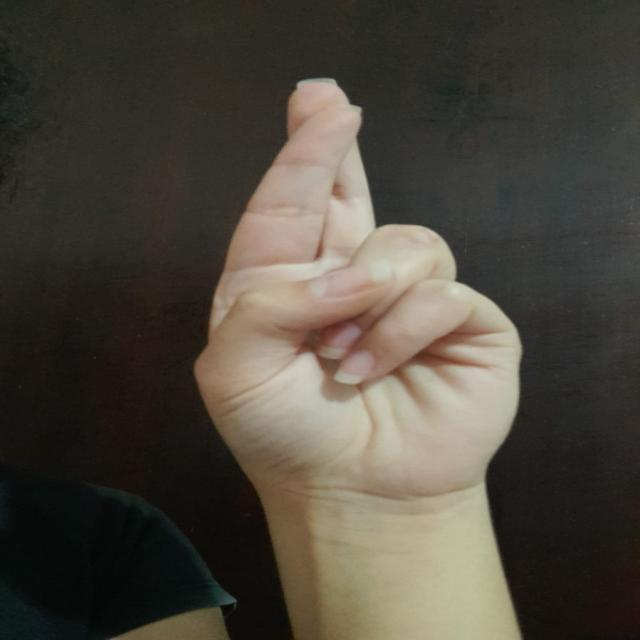R: (153, 66, 548, 504)
